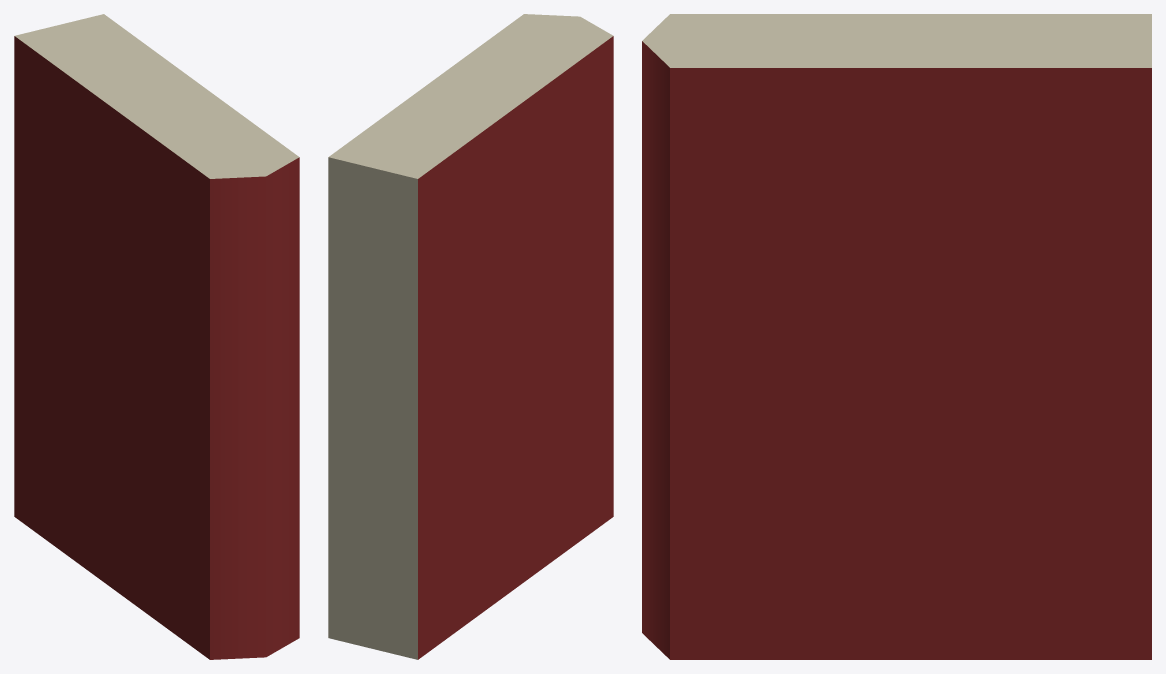
The model's file is 21_prop_book1.FBX.
3 views of the same model, side by side, from view 1: azimuth 30°, elevation 25°; view 2: azimuth 150°, elevation 25°; view 3: azimuth 270°, elevation 25° (orthographic). The views are drawn at different scales.
Parts seen in each view (by area): view 1: prop_book1; view 2: prop_book1; view 3: prop_book1.
Part boxes in pixels (x1,y1,x2,y2): prop_book1: [14, 14, 299, 659]; prop_book1: [328, 14, 613, 659]; prop_book1: [642, 14, 1151, 659].
Bounding box in the file's own units: 3.36 × 17.25 × 13.46.
